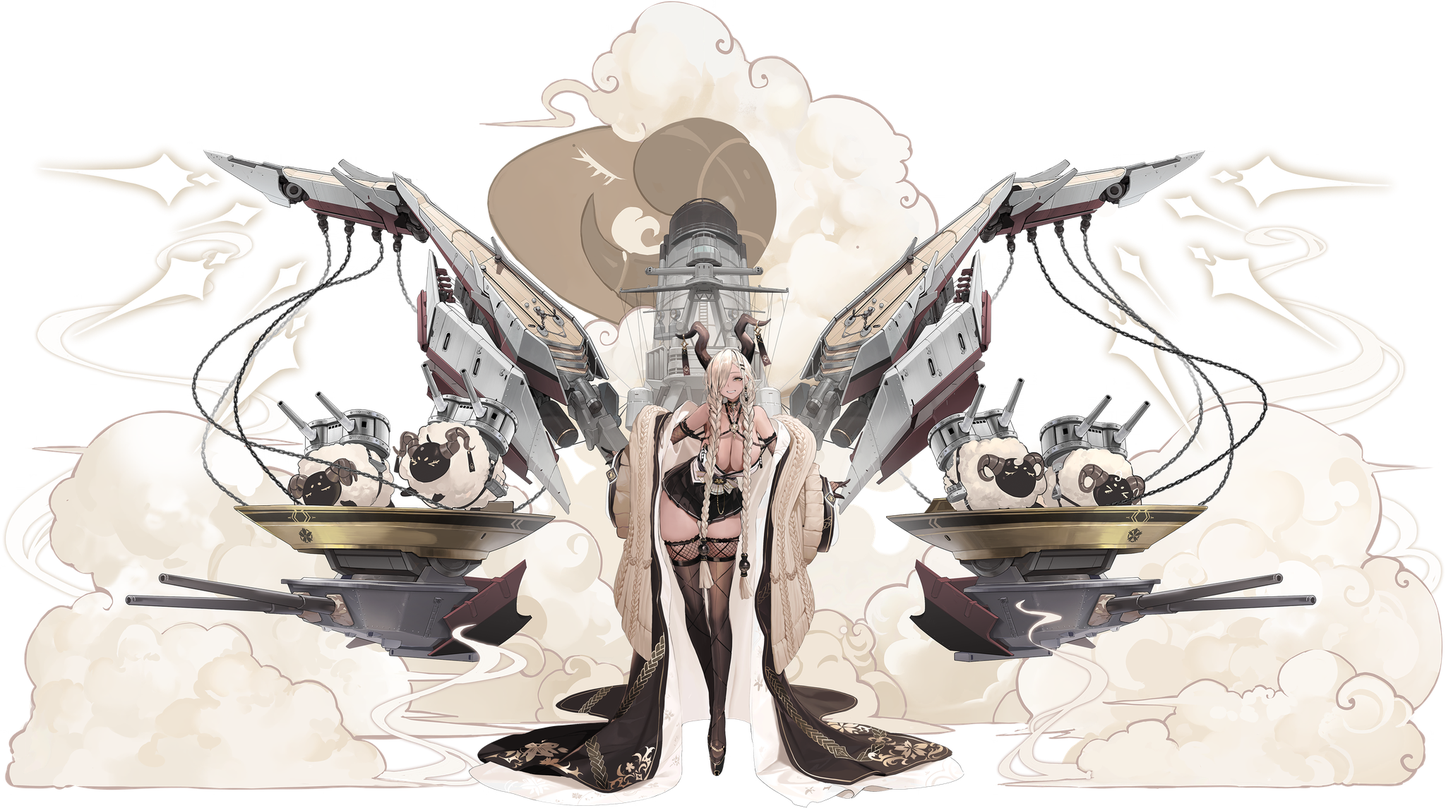person: (627, 314, 844, 806)
